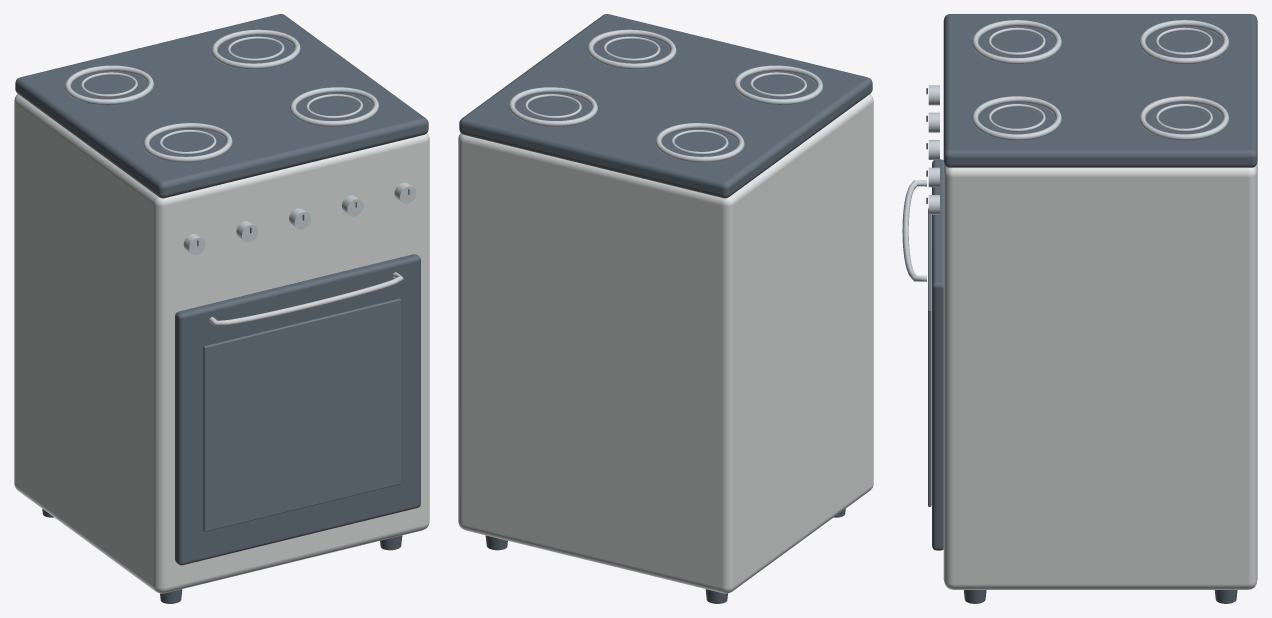
File: oven-range.glb
3 renders of one model, left to right at view 1: azimuth 30°, elevation 25°; view 2: azimuth 150°, elevation 25°; view 3: azimuth 270°, elevation 25°, orthographic. The views are drawn at different scales.
Parts seen in each view (by area): view 1: oven-range; view 2: oven-range; view 3: oven-range.
Boxes of the visible parts, <box> form: oven-range: <box>14,14,429,603</box>; oven-range: <box>458,14,873,603</box>; oven-range: <box>902,14,1257,603</box>.
Size of the model in its own units: 0.6 by 0.91 by 0.63.
